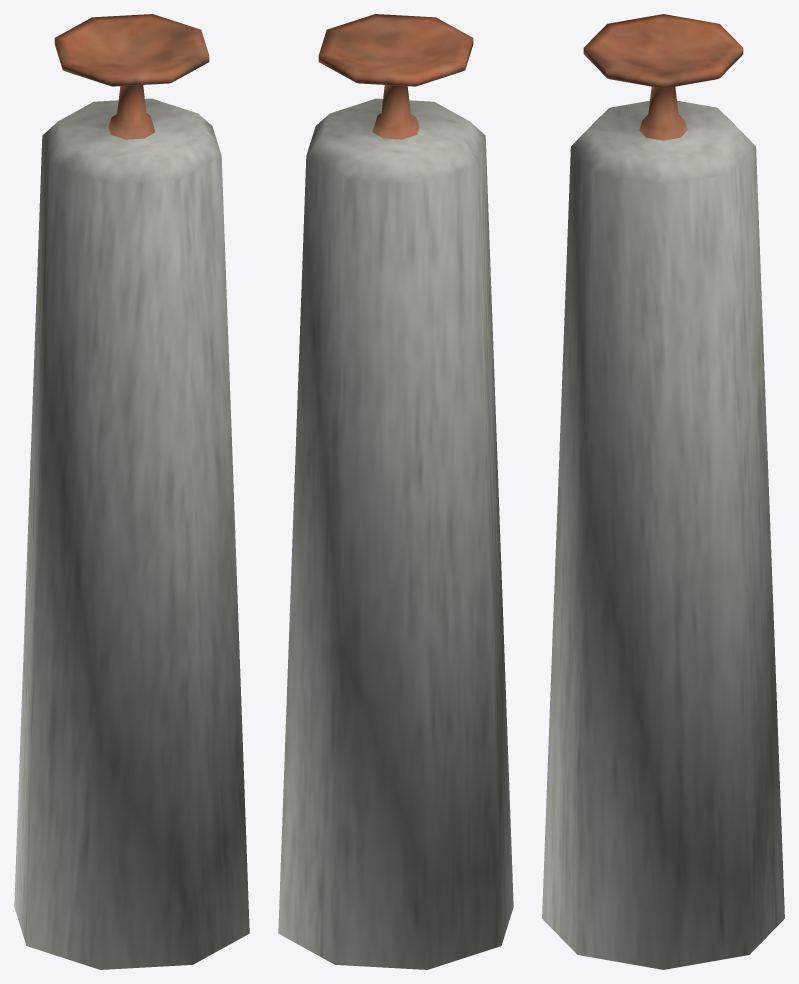
The model's file is FountainPillar.fbx.
The picture shows the model from 3 angles, left to right: view 1: azimuth 30°, elevation 25°; view 2: azimuth 150°, elevation 25°; view 3: azimuth 270°, elevation 25°; orthographic projection.
Visible parts, largest first — view 1: Cylinder; view 2: Cylinder; view 3: Cylinder.
Boxes of the visible parts, x1,y1,x2,y2 form: Cylinder: (14, 14, 249, 969); Cylinder: (278, 14, 513, 969); Cylinder: (542, 14, 784, 969).
Size of the model in its own units: 2.62 by 10.38 by 2.62.
